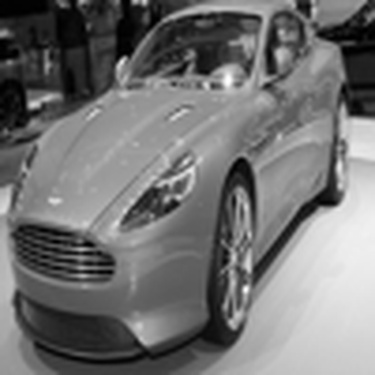car: (1, 4, 371, 371), (310, 1, 373, 119), (1, 23, 34, 143)
